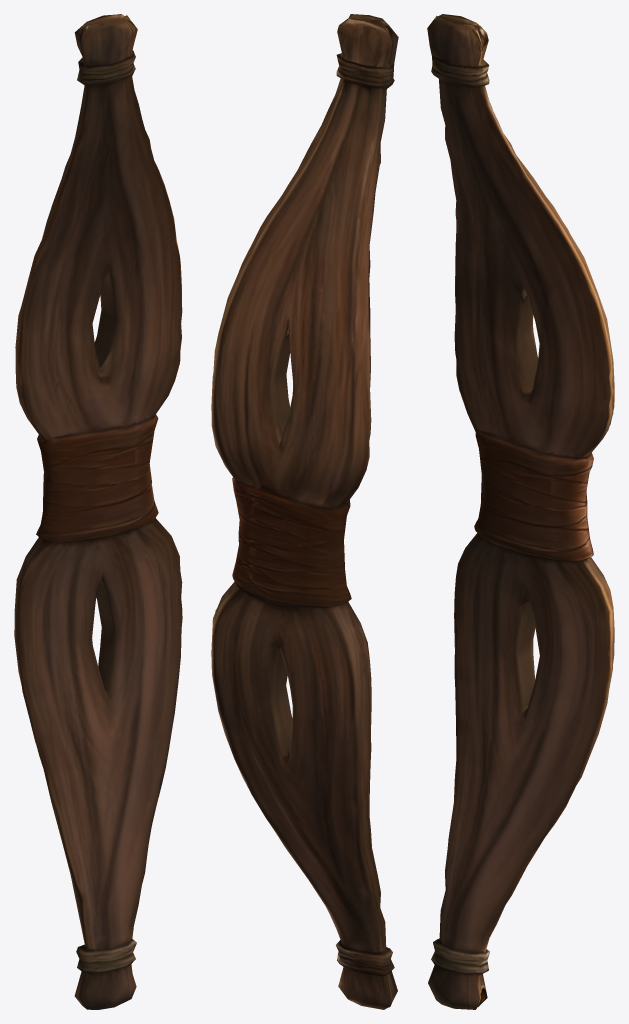
Rendered from arco-longo.glb.
The picture shows the model from 3 angles, left to right: view 1: azimuth 30°, elevation 25°; view 2: azimuth 150°, elevation 25°; view 3: azimuth 330°, elevation 25°; orthographic projection.
Visible parts, largest first — view 1: tripo_node_78a7eaae-4683-4cf4-90dd-6f0d60b16b0e; view 2: tripo_node_78a7eaae-4683-4cf4-90dd-6f0d60b16b0e; view 3: tripo_node_78a7eaae-4683-4cf4-90dd-6f0d60b16b0e.
Boxes of the visible parts, left/top/right/bottom form: tripo_node_78a7eaae-4683-4cf4-90dd-6f0d60b16b0e: left=14, top=14, right=182, bottom=1009; tripo_node_78a7eaae-4683-4cf4-90dd-6f0d60b16b0e: left=211, top=14, right=398, bottom=1009; tripo_node_78a7eaae-4683-4cf4-90dd-6f0d60b16b0e: left=427, top=14, right=614, bottom=1009.
Bounding box in the file's own units: 0.1708 × 1 × 0.1174.
Materials: 1 (1 with a texture image).
